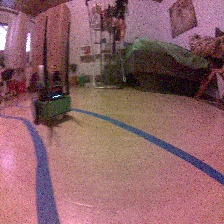rob: (31, 70, 72, 122)
